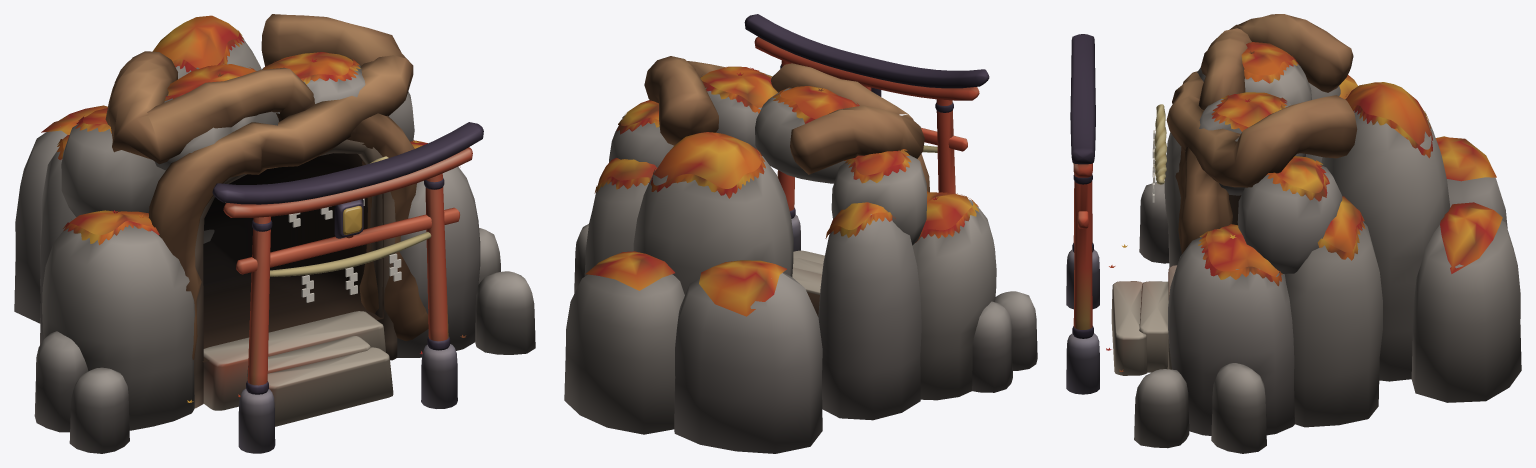
File: gate-maple.glb
The picture shows the model from 3 angles, left to right: view 1: azimuth 30°, elevation 25°; view 2: azimuth 150°, elevation 25°; view 3: azimuth 270°, elevation 25°; orthographic projection. The views are drawn at different scales.
Visible parts, largest first — view 1: gate_maple; view 2: gate_maple; view 3: gate_maple.
Boxes of the visible parts, x1,y1,x2,y2 form: gate_maple: (14, 14, 535, 453); gate_maple: (564, 14, 1037, 453); gate_maple: (1066, 14, 1521, 453).
Bounding box in the file's own units: 7.95 × 4.86 × 7.1.
